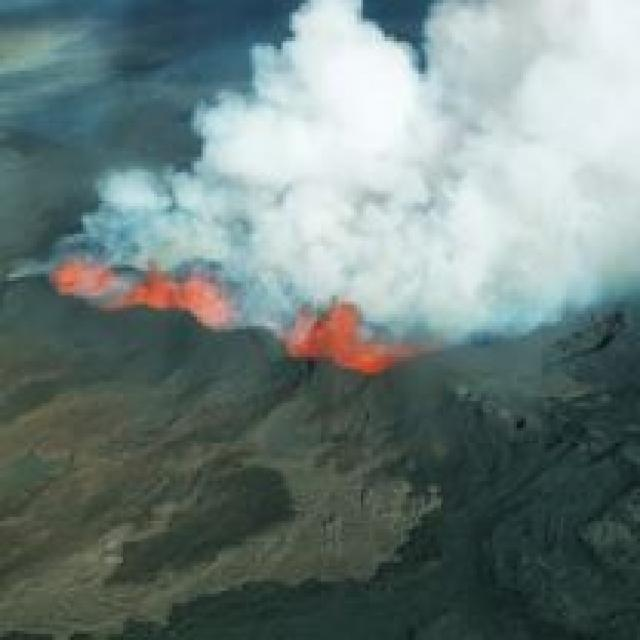Fire: (54, 263, 418, 377)
Smoke: (83, 0, 616, 334)
